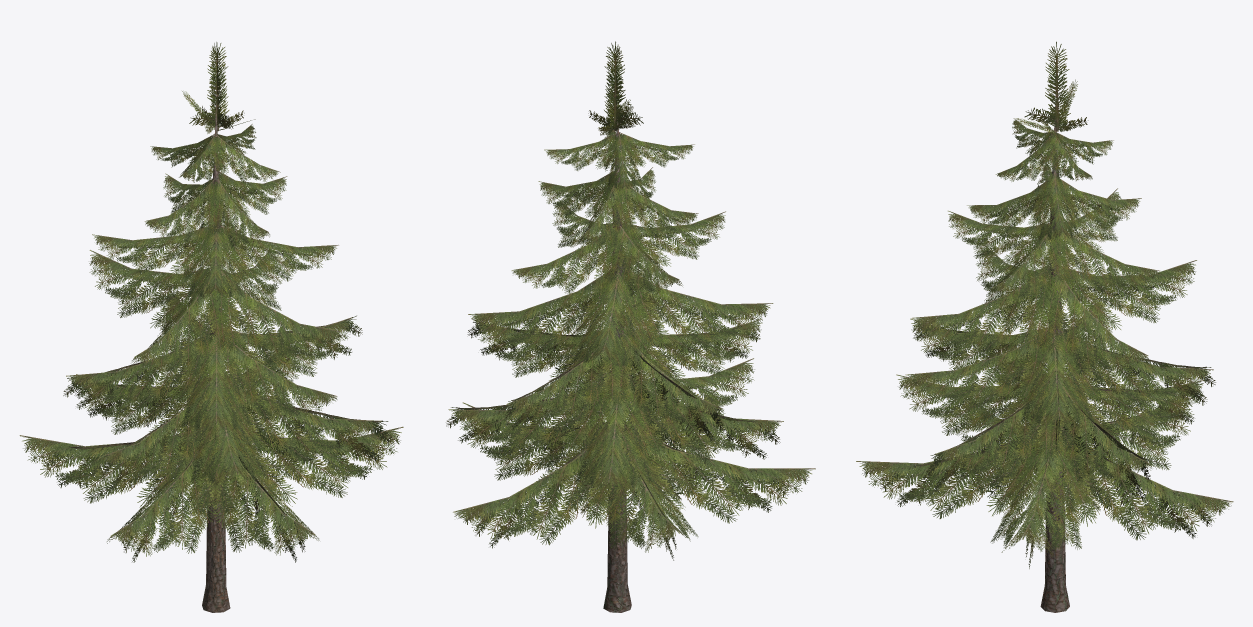
The model's file is tree_spruce.FBX.
3 views of the same model, side by side, from view 1: azimuth 30°, elevation 25°; view 2: azimuth 150°, elevation 25°; view 3: azimuth 270°, elevation 25° (orthographic).
Visible parts, largest first — view 1: branch_spruce, trunk_spruce; view 2: branch_spruce, trunk_spruce; view 3: branch_spruce, trunk_spruce.
Boxes of the visible parts, x1=… form: branch_spruce: x1=19, y1=42, x2=403, y2=562; trunk_spruce: x1=202, y1=104, x2=230, y2=612; branch_spruce: x1=446, y1=41, x2=815, y2=560; trunk_spruce: x1=603, y1=104, x2=631, y2=612; branch_spruce: x1=856, y1=41, x2=1233, y2=568; trunk_spruce: x1=1040, y1=105, x2=1069, y2=612.
Size of what is drawn, in the model's own units: 716 by 1220 by 723.
